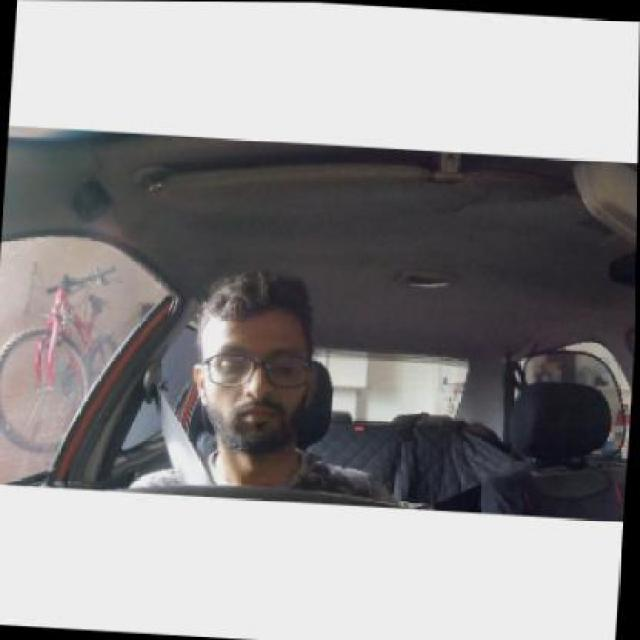drowsy: (184, 280, 318, 457)
